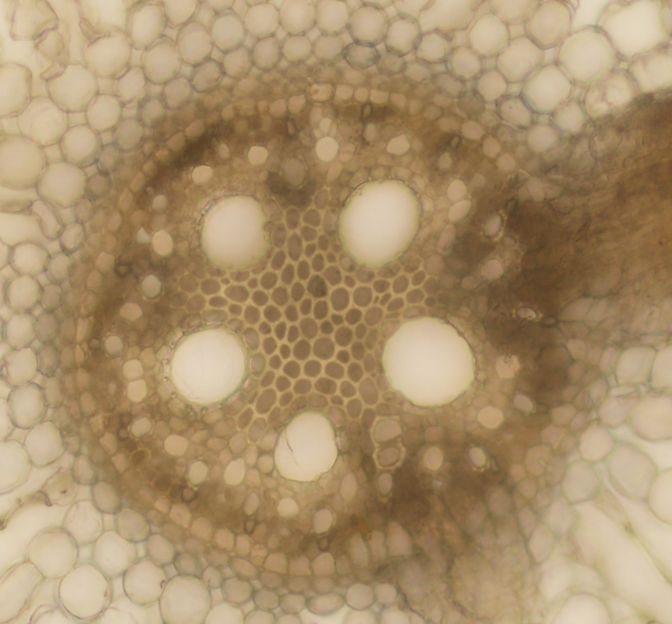lm: (381, 315, 477, 407), (338, 178, 420, 269), (169, 325, 247, 406), (199, 192, 270, 273), (273, 410, 339, 483)
